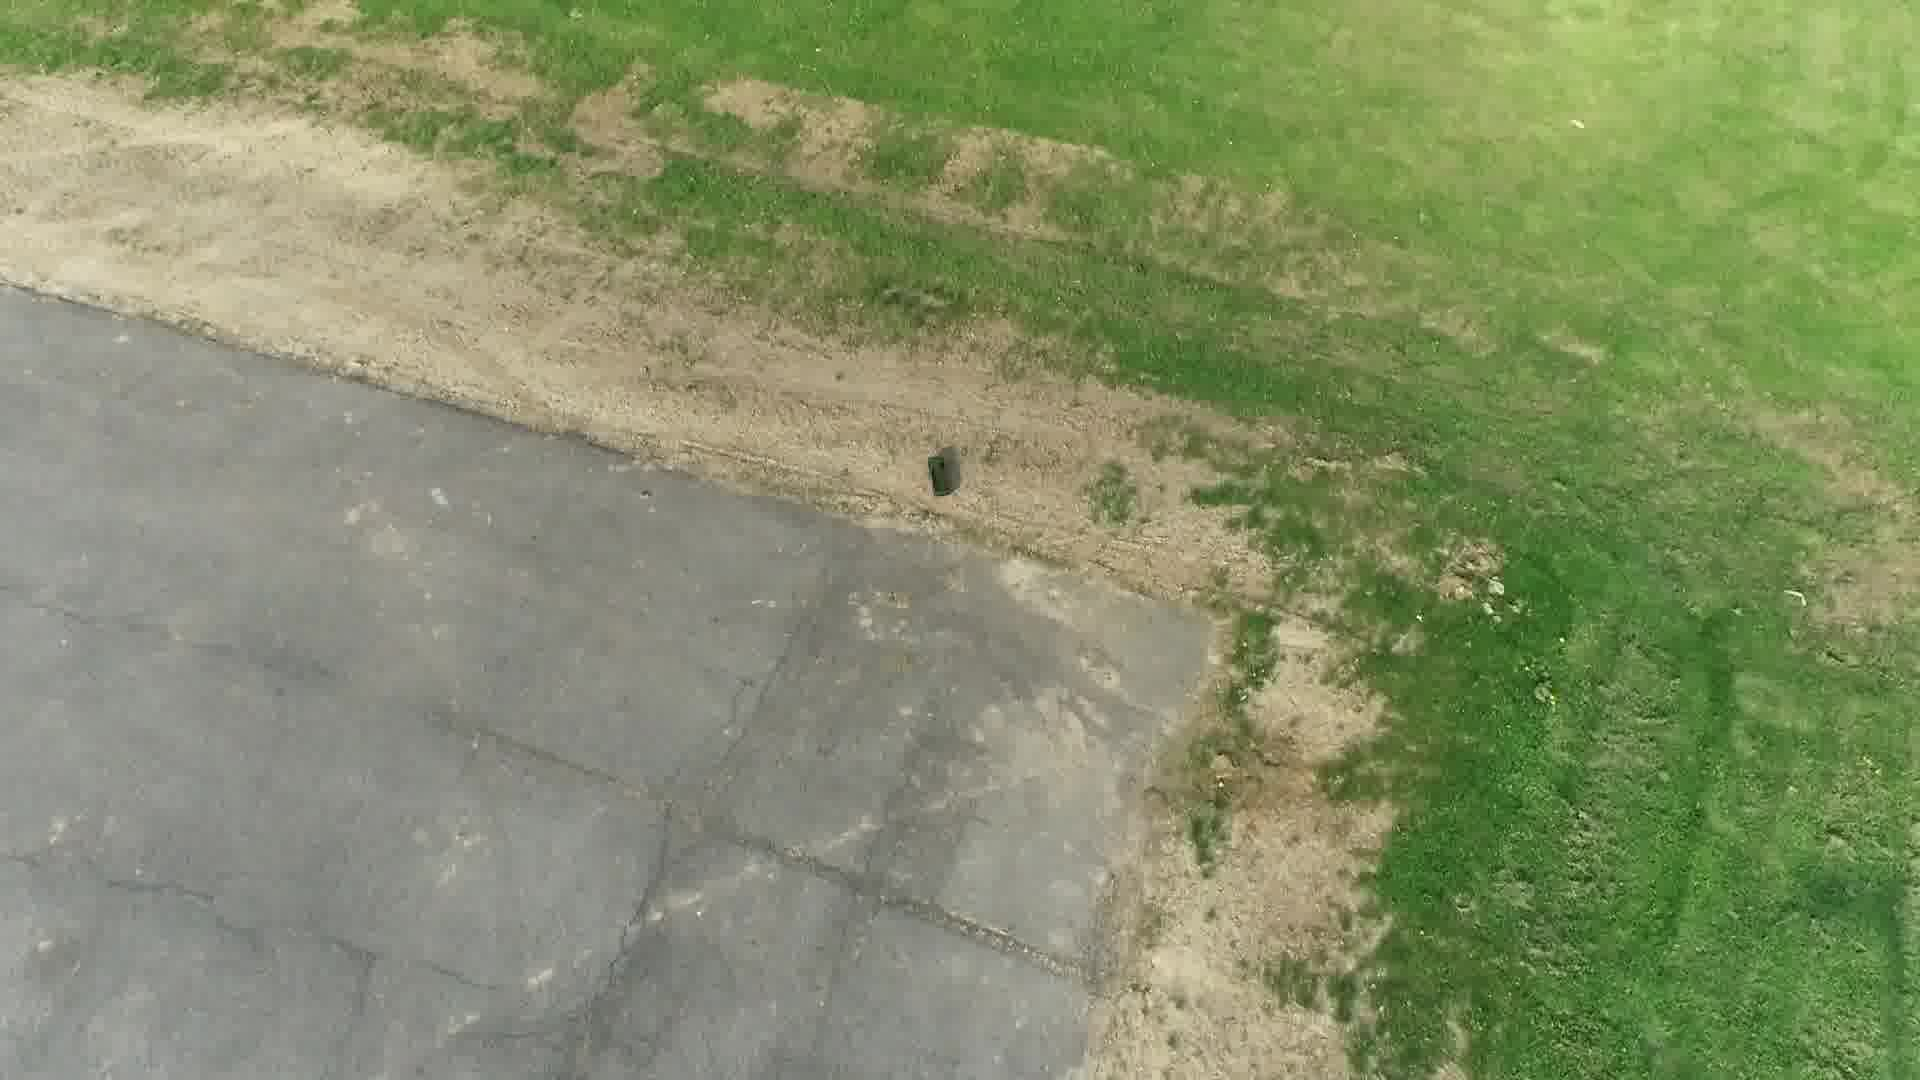transporter9: (926, 454, 953, 498)
